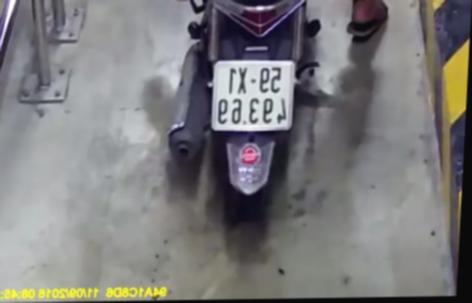License_Plate: (204, 55, 302, 133)
